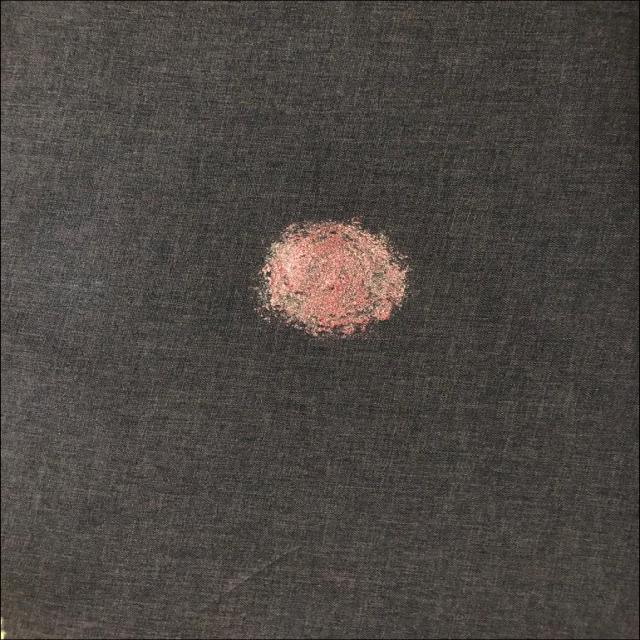Stain: (258, 220, 409, 336)
